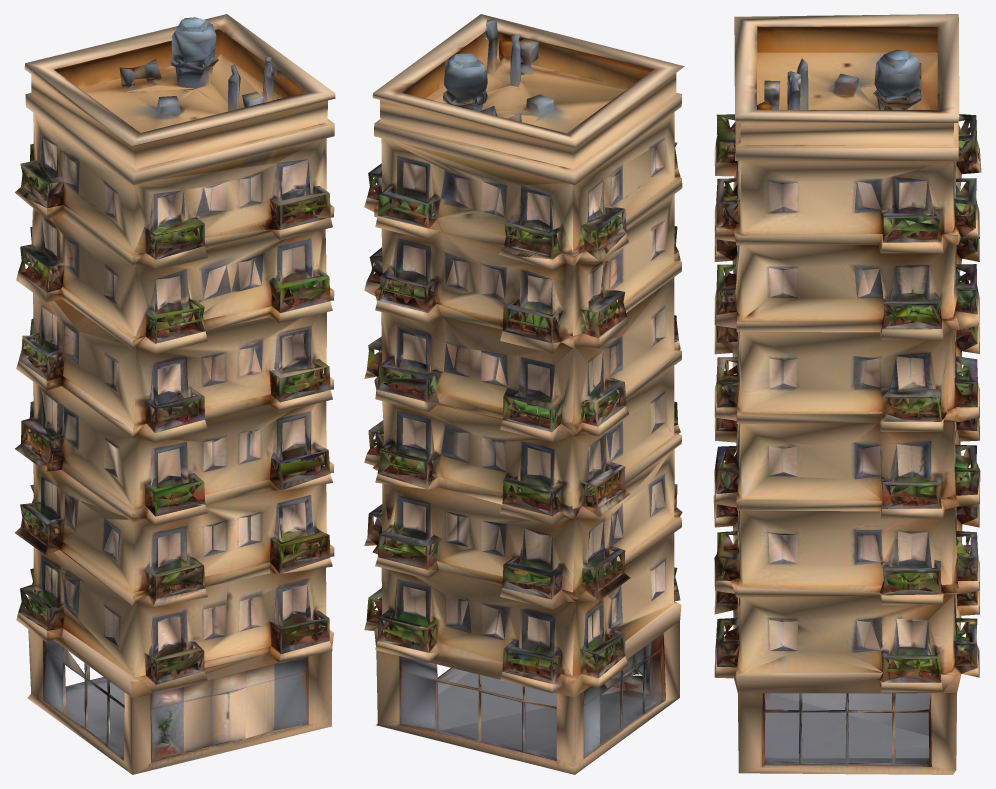
The model's file is menara-4.glb.
3 renders of one model, left to right at view 1: azimuth 30°, elevation 25°; view 2: azimuth 150°, elevation 25°; view 3: azimuth 270°, elevation 25°, orthographic. The views are drawn at different scales.
Parts seen in each view (by area): view 1: node_0; view 2: node_0; view 3: node_0.
Part boxes in pixels (x1=…): node_0: x1=14, y1=14, x2=335, y2=774; node_0: x1=364, y1=14, x2=684, y2=774; node_0: x1=713, y1=14, x2=981, y2=774.
Bounding box in the file's own units: 0.4111 × 1.1 × 0.3896.
Materials: 1 (1 with a texture image).
